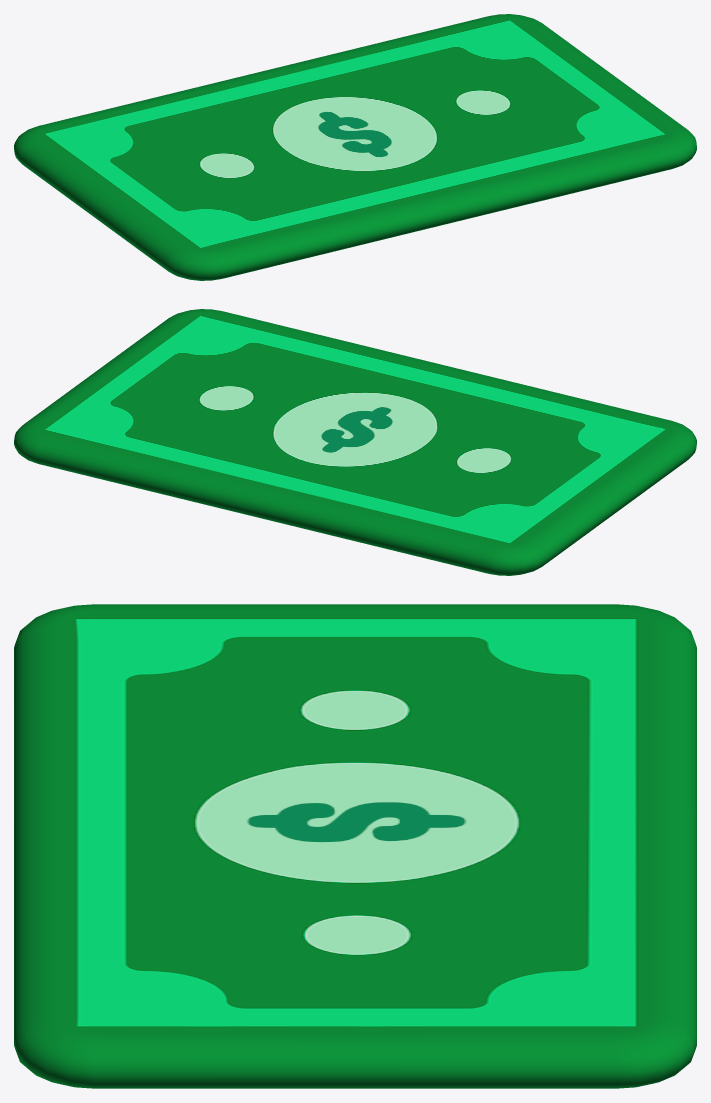
The model's file is dollar.fbx.
3 views of the same model, one above another, from view 1: azimuth 30°, elevation 25°; view 2: azimuth 150°, elevation 25°; view 3: azimuth 270°, elevation 25° (orthographic). The views are drawn at different scales.
Visible parts, largest first — view 1: pCube3; view 2: pCube3; view 3: pCube3.
Boxes of the visible parts, box(x1,y1,x2,y2) form: pCube3: box(14, 14, 696, 280); pCube3: box(14, 309, 696, 575); pCube3: box(14, 604, 696, 1088).
Bounding box in the file's own units: 1.77 × 0.0848 × 1.11.
Materials: 1 (1 with a texture image).
